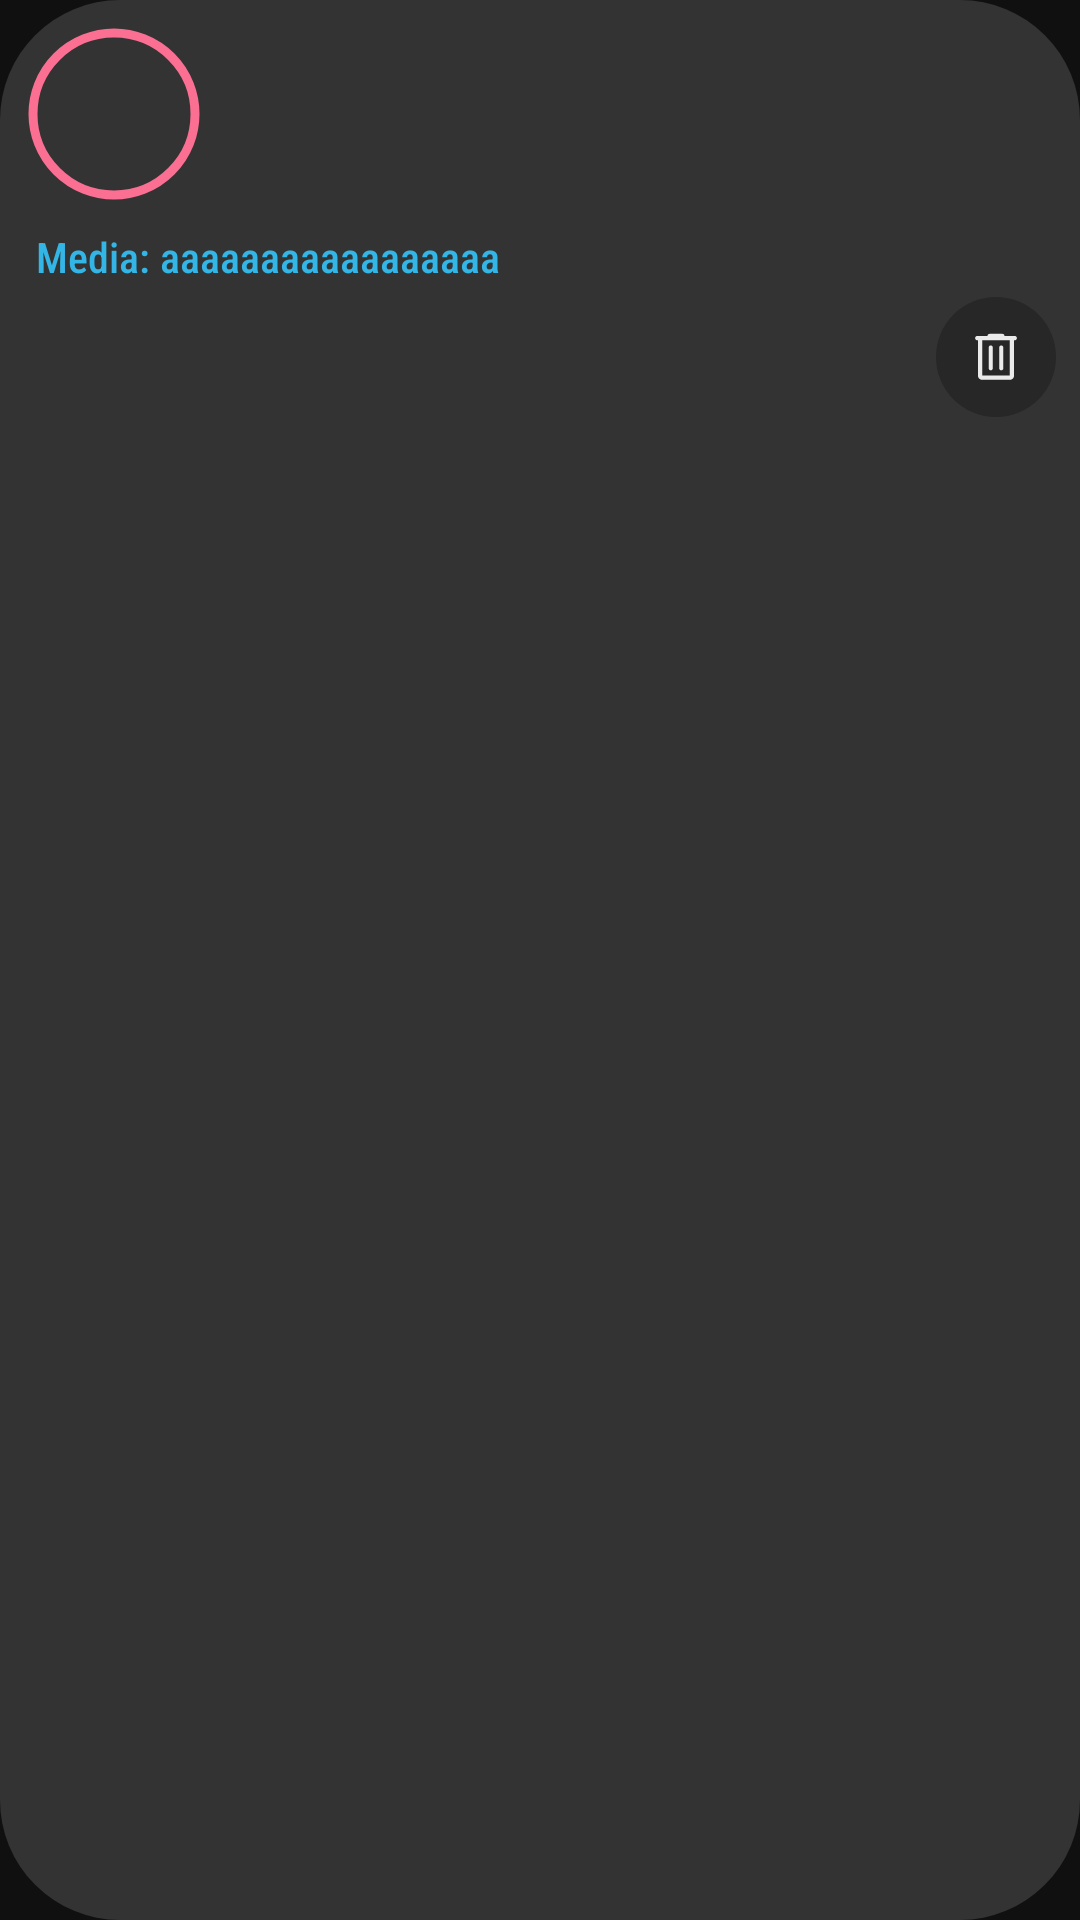

Where to tap for icons on this 1080 x 1920 app screen, as point (x, y):
delete: point (996, 356)
